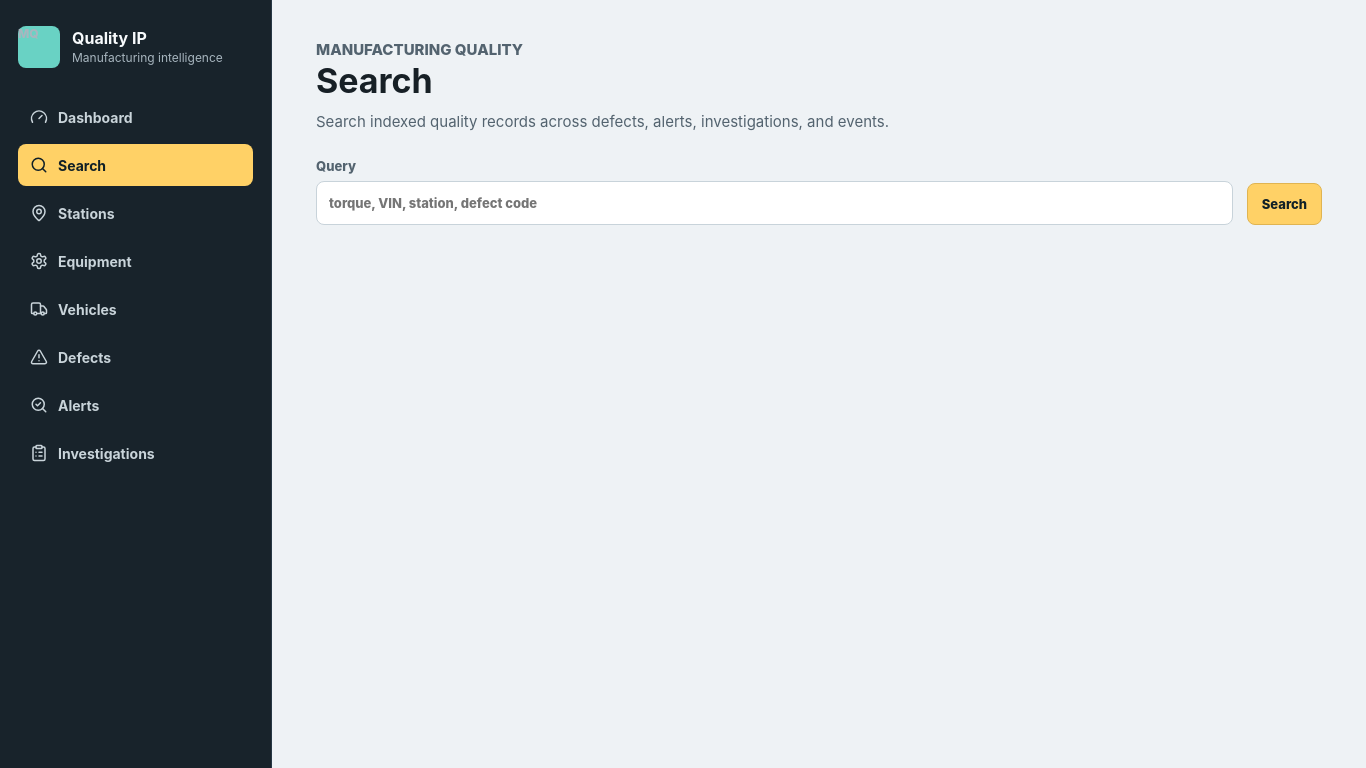
Scenario: Phase 11 workflow pages › routes search result links to alert detail
Type "torque" into the search field labelled "Query".
click(774, 203); type("torque")  # box [316,181,1233,225]
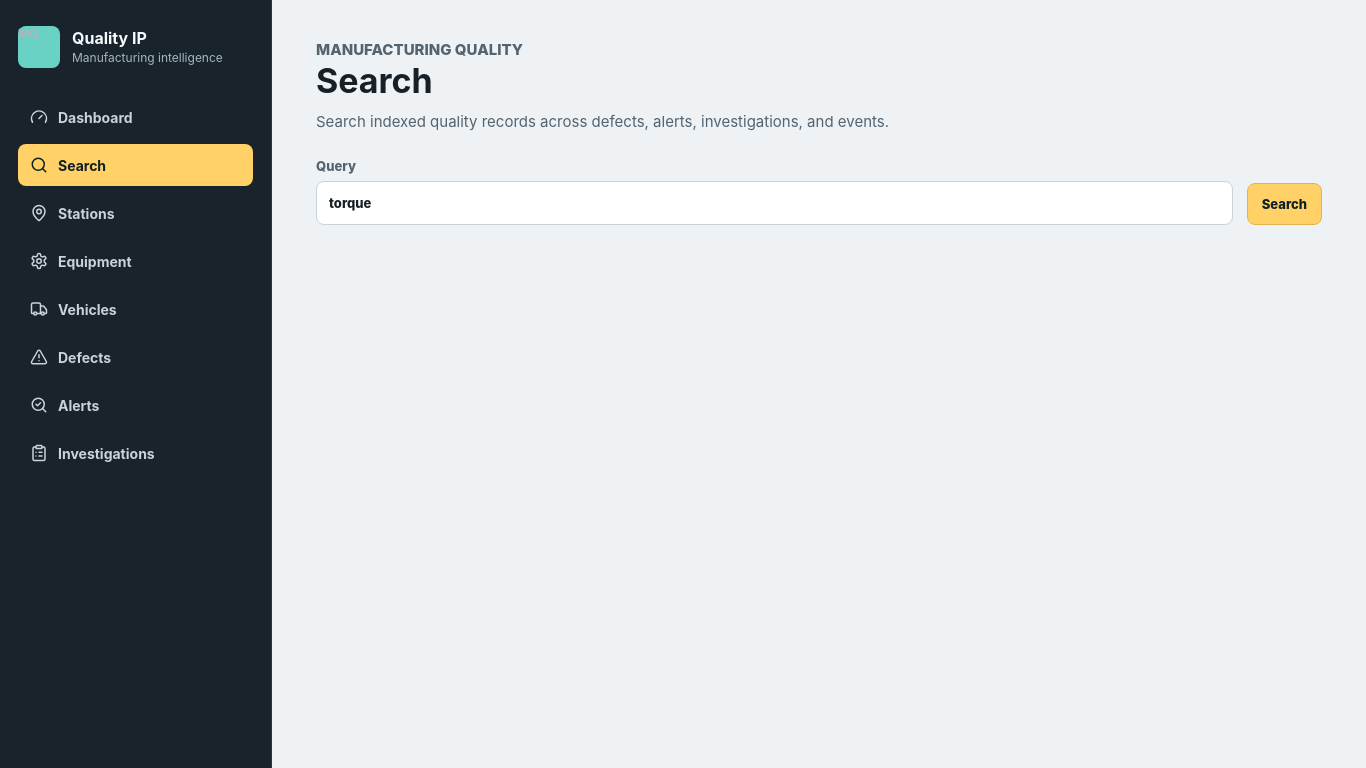
Click the button "Search".
click(1284, 204)  # box [1247,183,1322,225]
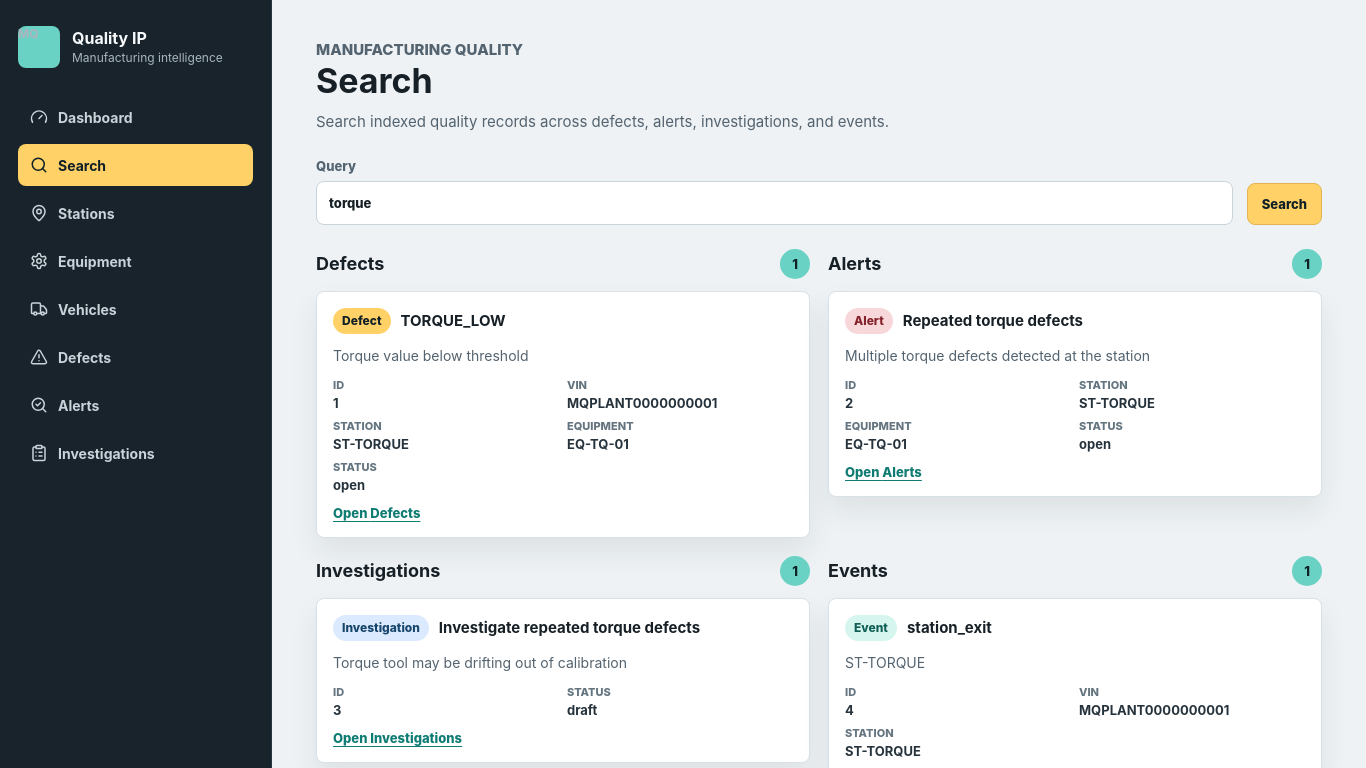
Click the link "Open Alerts".
click(883, 472)  # box [845,464,922,480]
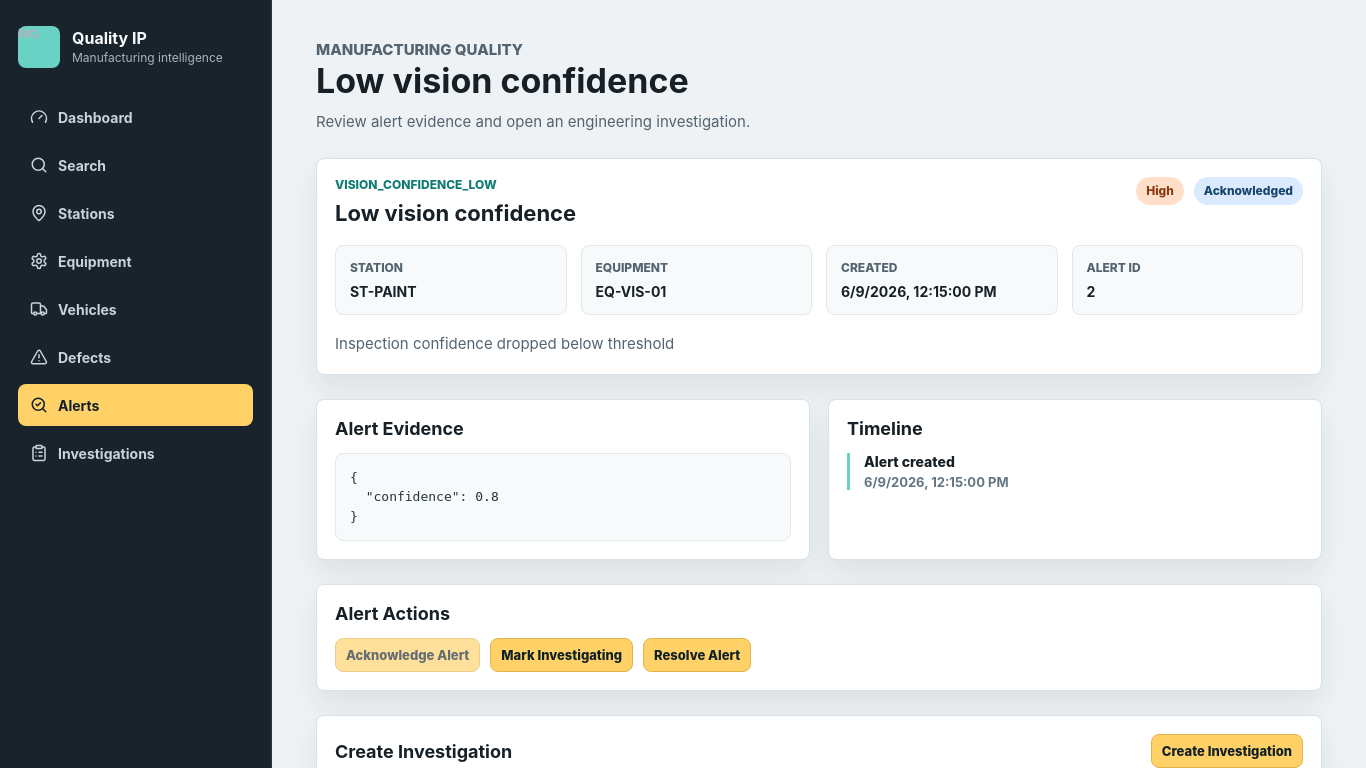
Now the heading "Low vision confidence" below "Manufacturing Quality" is shown, box [316,60,689,101]
